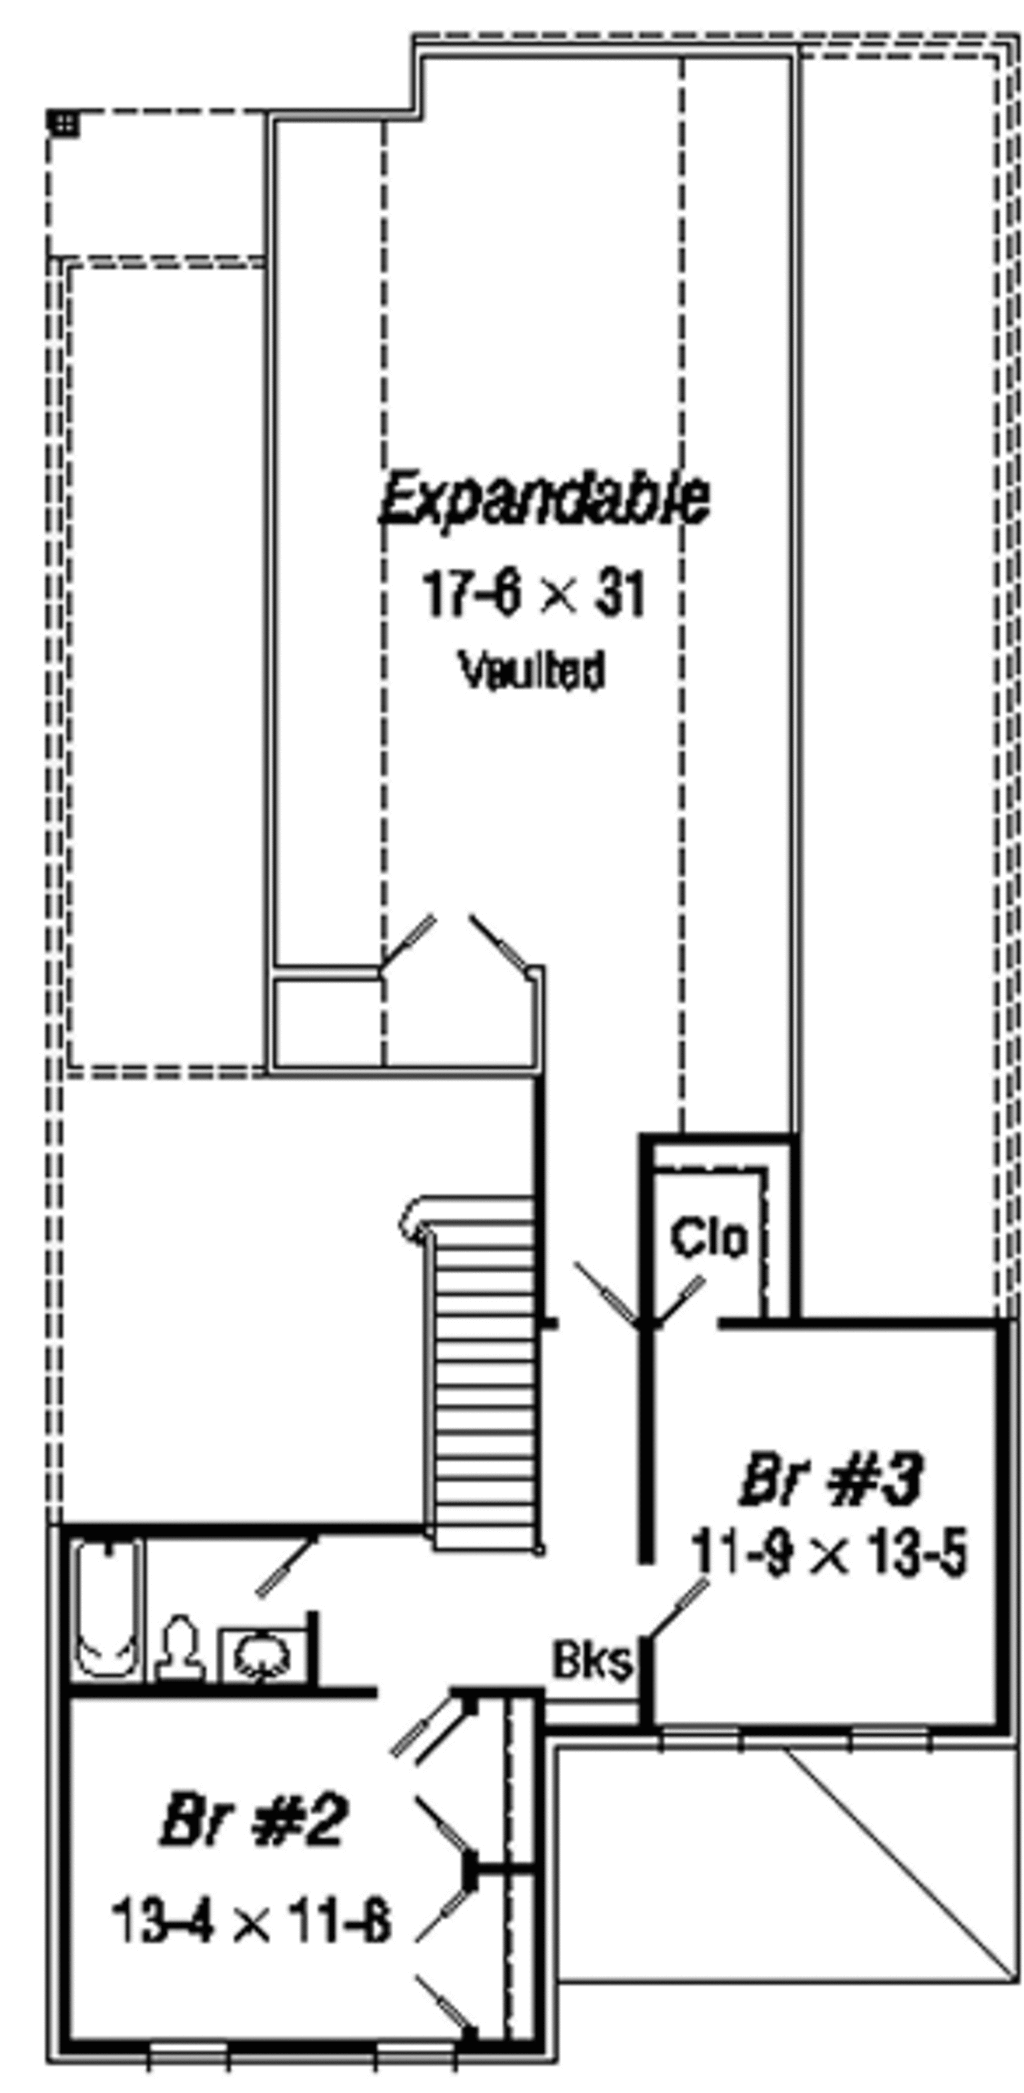large_sink: (152, 1612, 214, 1693)
small_sink: (210, 1602, 326, 1699)
stairs: (393, 1177, 542, 1567)
tub: (73, 1535, 152, 1690)
window: (121, 2032, 242, 2070), (645, 1715, 740, 1761), (842, 1715, 932, 1757), (360, 2041, 471, 2070)
